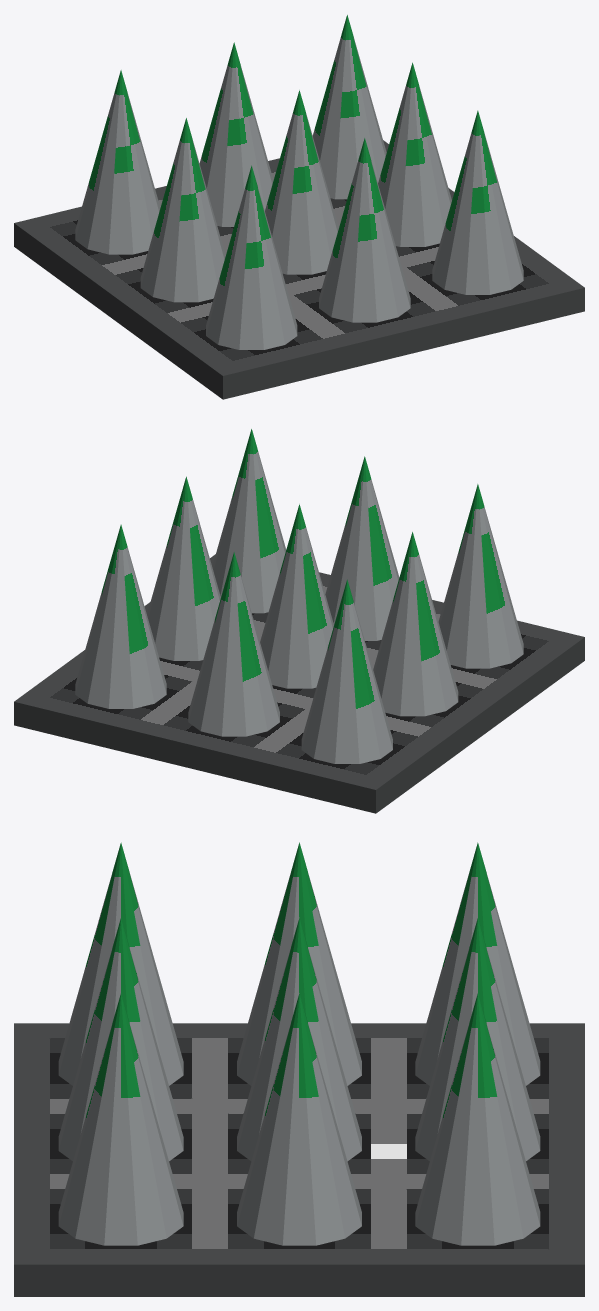
File: spiketrap.gltf
3 views of the same model, one above another, from view 1: azimuth 30°, elevation 25°; view 2: azimuth 150°, elevation 25°; view 3: azimuth 270°, elevation 25° (orthographic). The views are drawn at different scales.
Visible parts, largest first — view 1: cone (×9), mesh; view 2: cone (×9), mesh; view 3: cone (×9), mesh.
Part boxes in pixels (bbox=[...]): cone (×9): bbox=[75, 15, 523, 349]; mesh: bbox=[14, 140, 584, 399]; cone (×9): bbox=[75, 429, 523, 763]; mesh: bbox=[14, 554, 584, 813]; cone (×9): bbox=[58, 842, 540, 1245]; mesh: bbox=[14, 1023, 584, 1296].
Bounding box in the file's own units: 1 × 0.5 × 1.
Materials: 1 (1 with a texture image).
